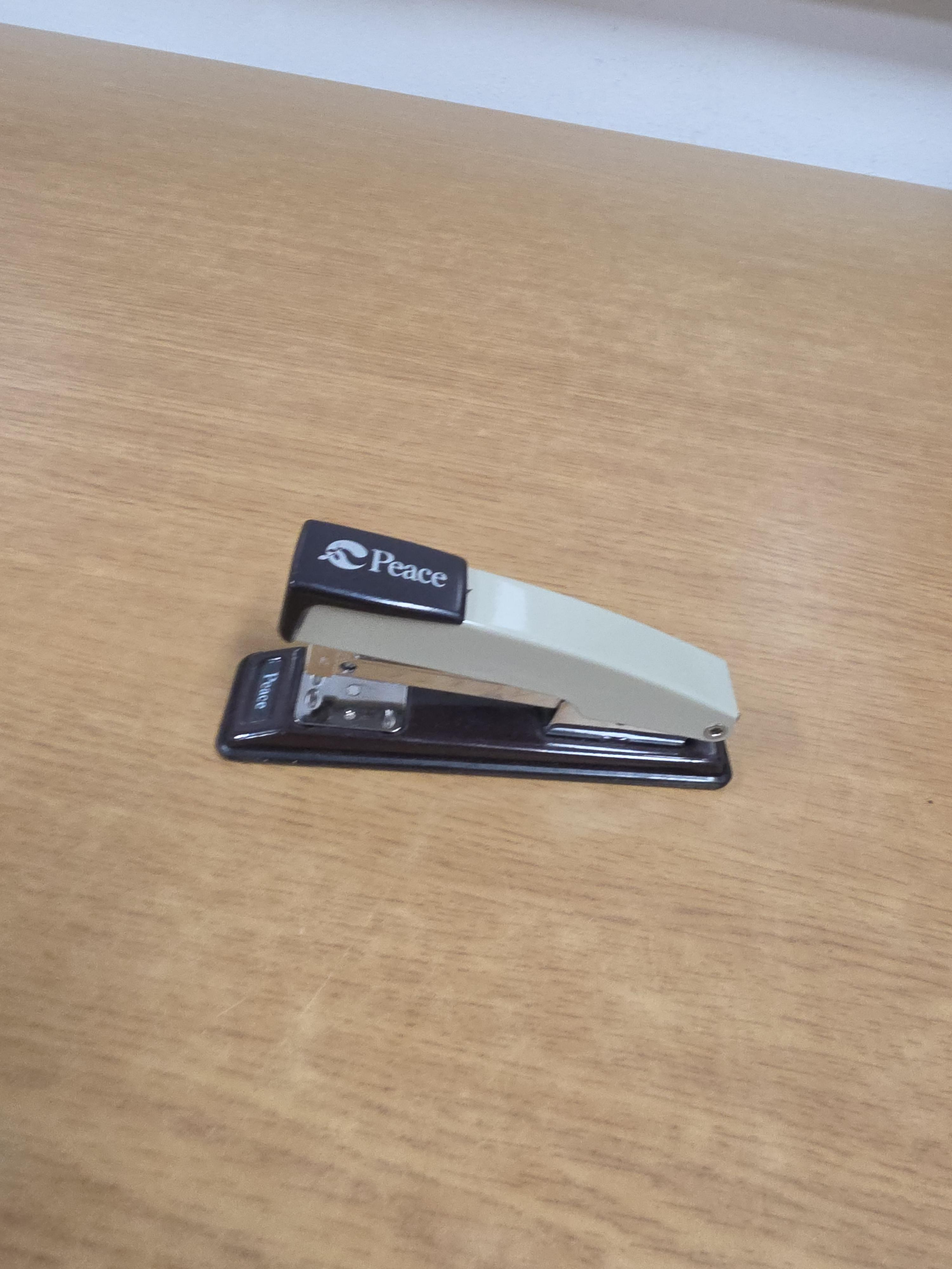stapler: (216, 519, 740, 791)
